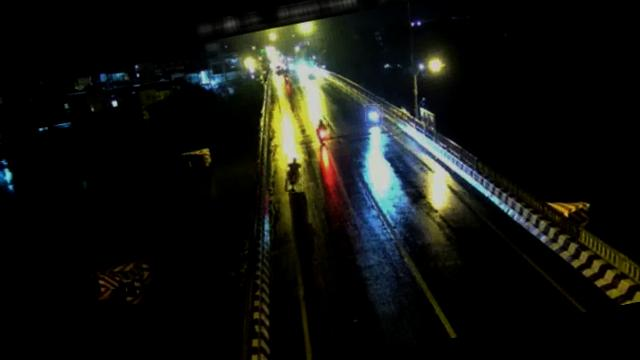Bike: (280, 152, 308, 194), (364, 102, 386, 127), (312, 118, 330, 144)
